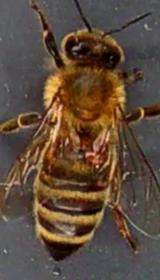varroa_mite: (78, 139, 106, 167)
